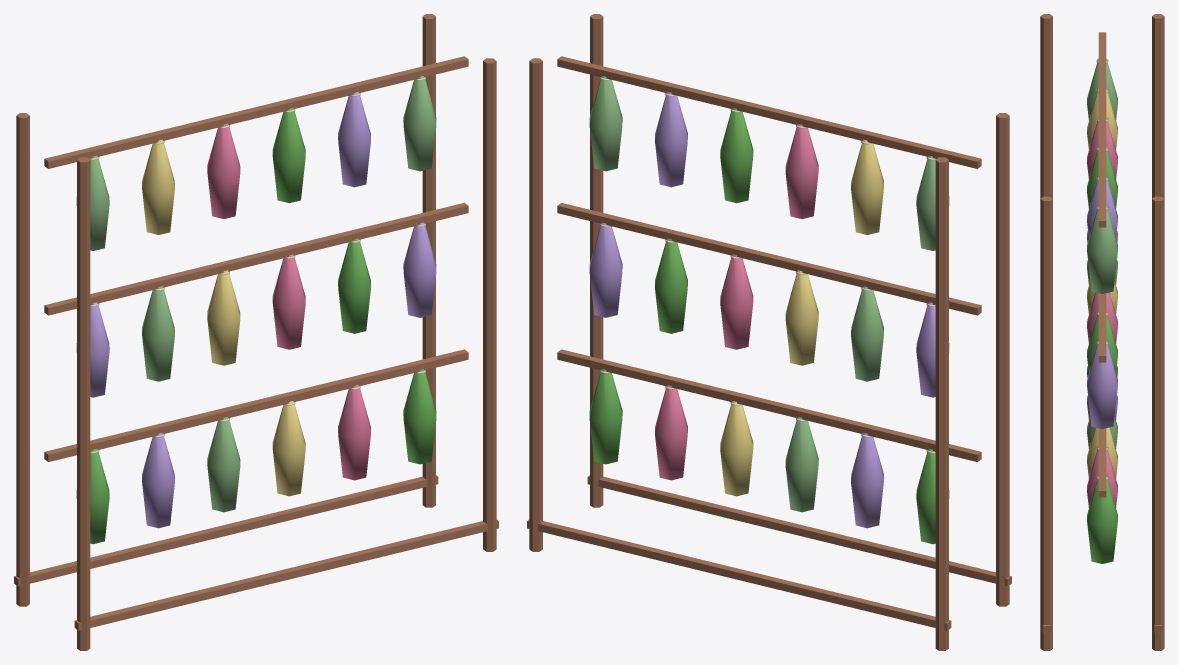
File: drying_rack_herbs.glb
The picture shows the model from 3 angles, left to right: view 1: azimuth 30°, elevation 25°; view 2: azimuth 150°, elevation 25°; view 3: azimuth 270°, elevation 25°; orthographic projection. The views are drawn at different scales.
Parts seen in each view (by area): view 1: drying_rack_herbs; view 2: drying_rack_herbs; view 3: drying_rack_herbs.
Part boxes in pixels (left/top/right/bottom): drying_rack_herbs: left=14, top=14, right=498, bottom=650; drying_rack_herbs: left=527, top=14, right=1011, bottom=650; drying_rack_herbs: left=1040, top=14, right=1164, bottom=650.
Size of what is drawn, in the model's own units: 1.8 by 2 by 0.5.
